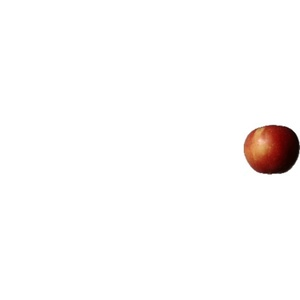maçã braeburn: (239, 121, 299, 178)
